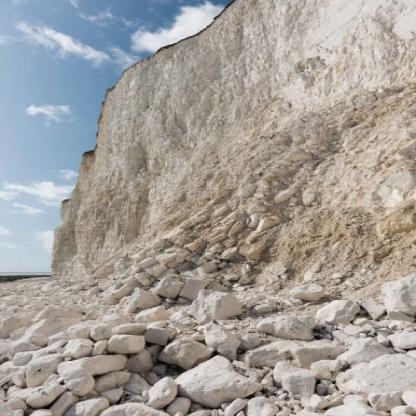Sedimentary_Limestone: (180, 342, 259, 401), (11, 314, 62, 348), (97, 329, 148, 358), (95, 402, 168, 415)
